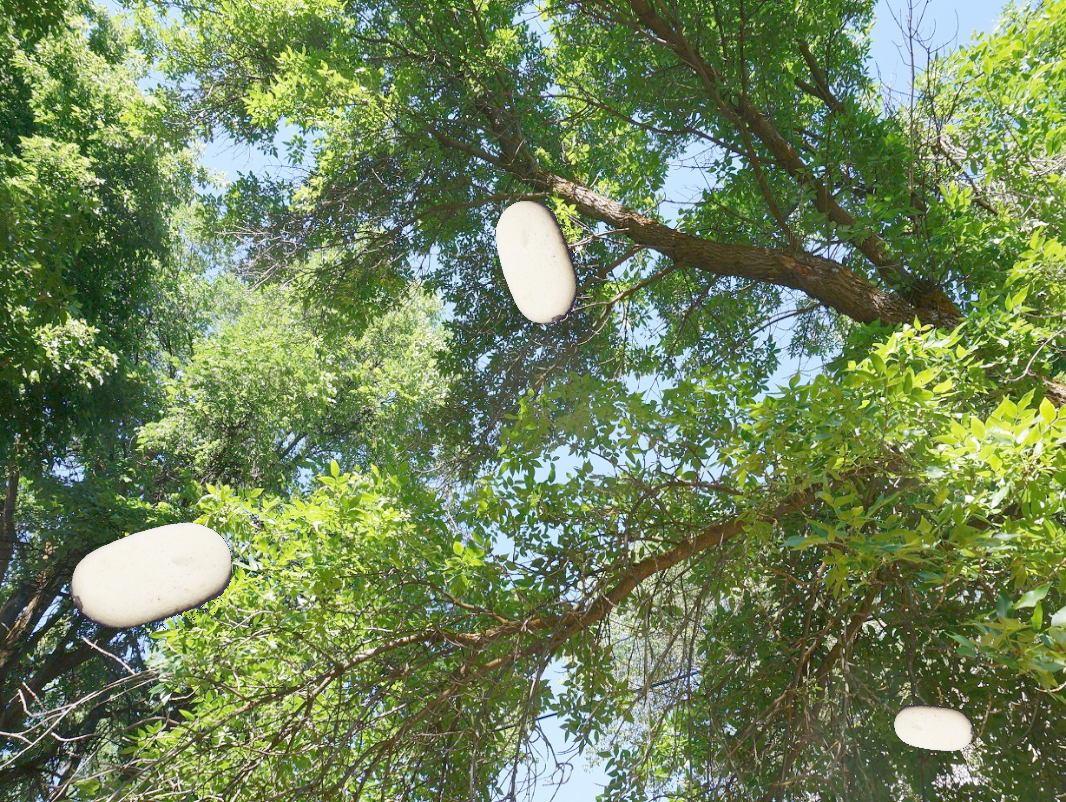test: (51, 484, 249, 680), (466, 187, 616, 338), (884, 673, 987, 776)
